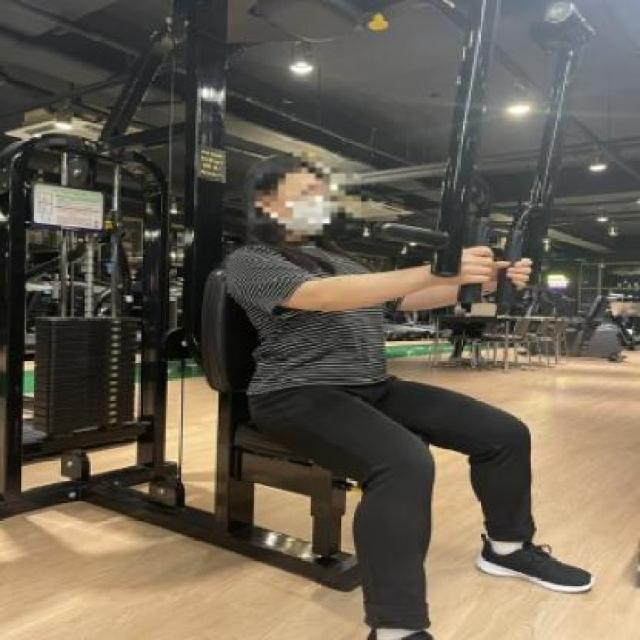chest fly machine: (0, 0, 605, 640)
